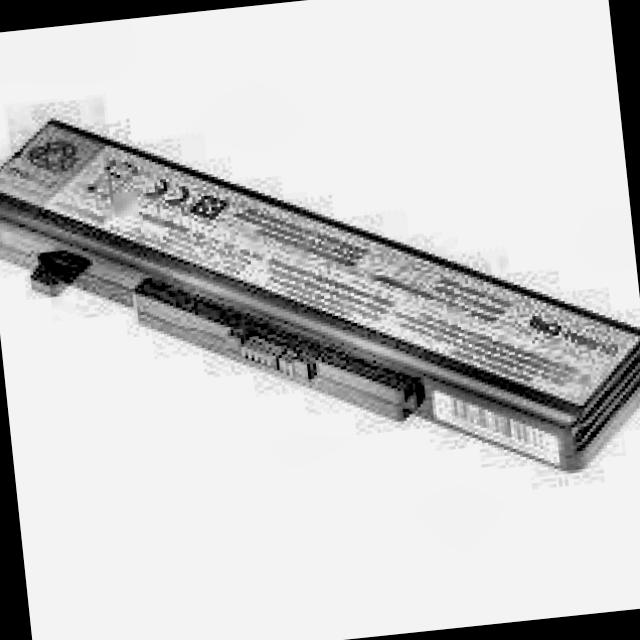Battery: (0, 40, 640, 554)
